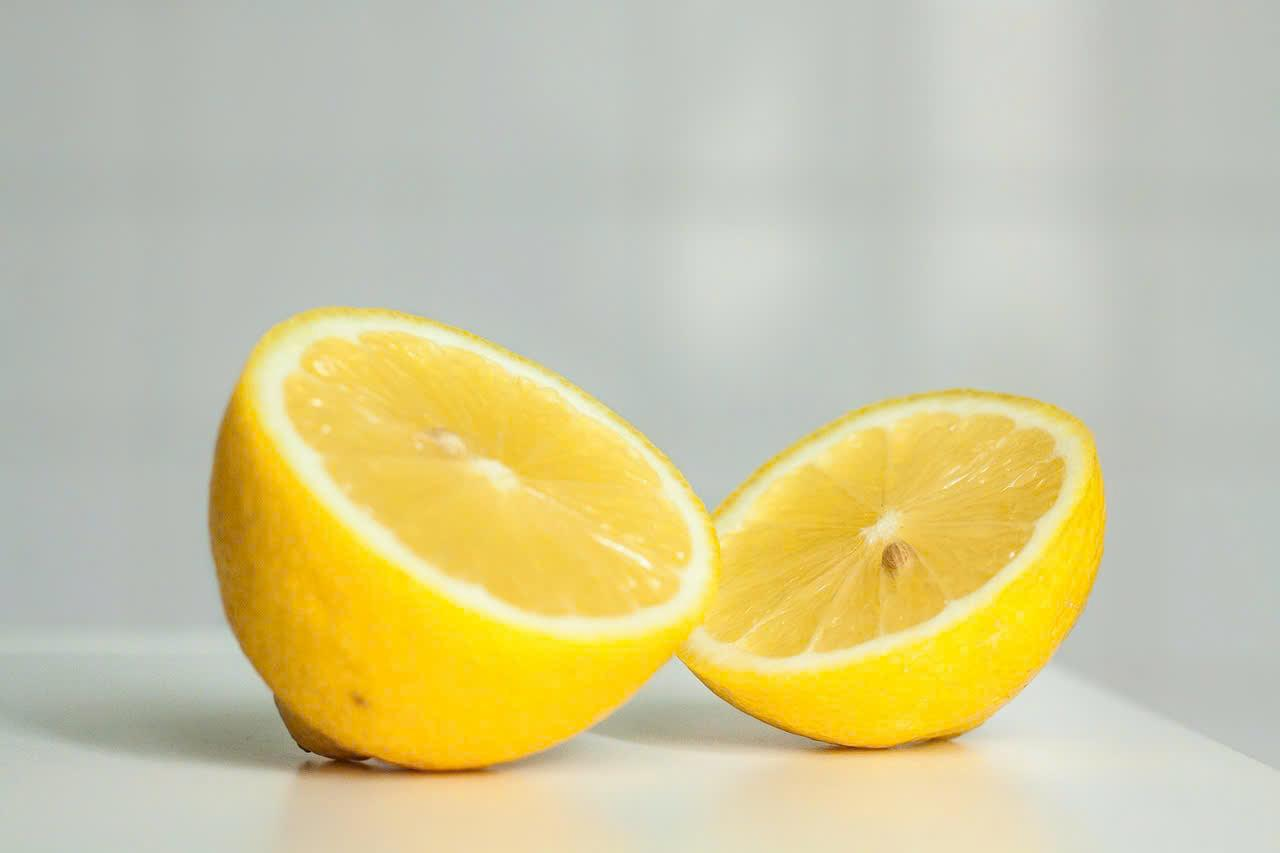lemon: (212, 280, 705, 740), (709, 390, 1090, 760)
